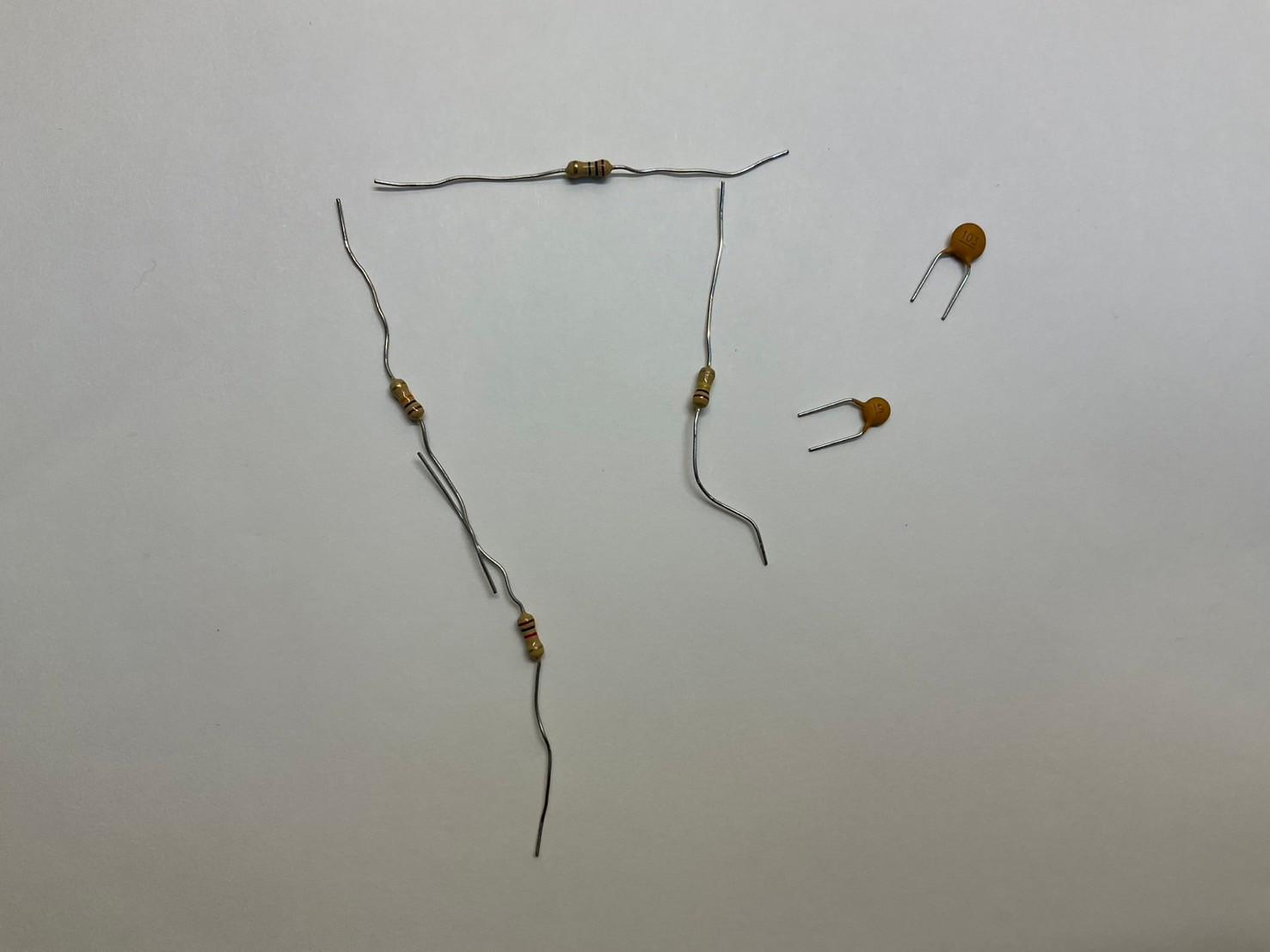resistor: (388, 377, 426, 424), (516, 611, 547, 660), (690, 365, 714, 411), (566, 158, 611, 180)
